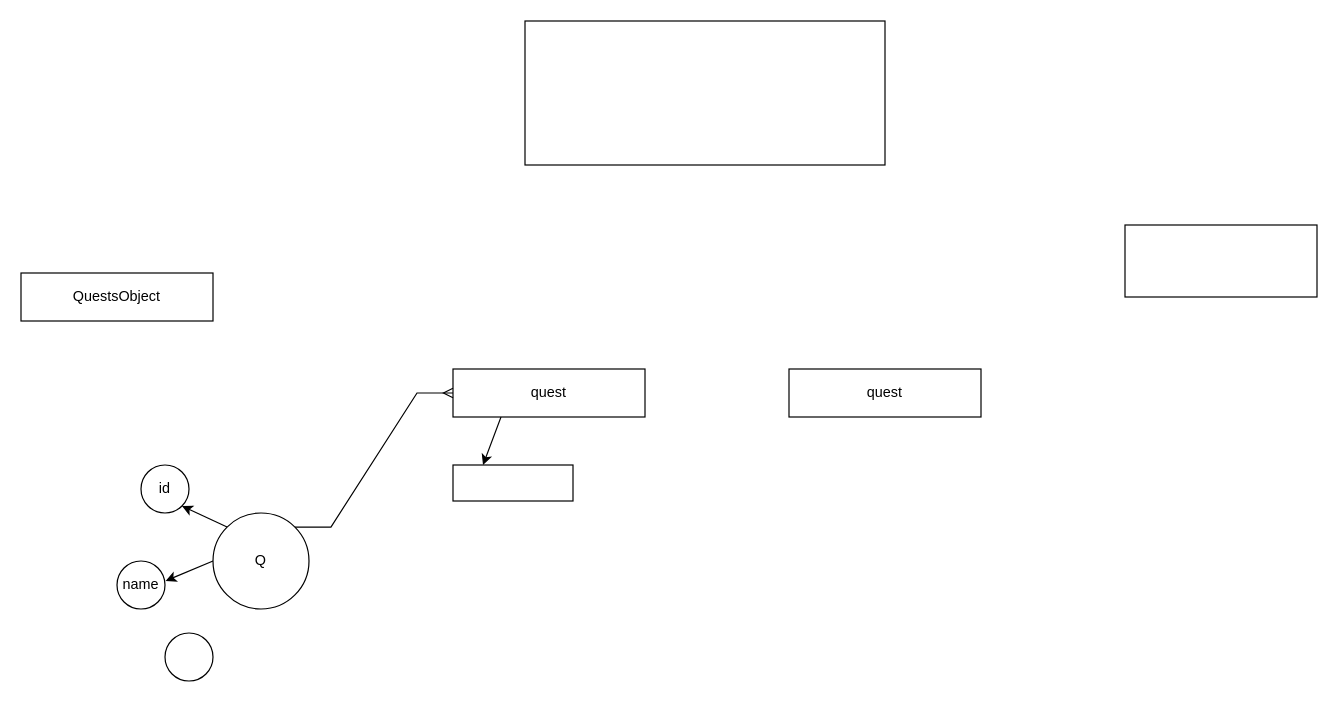
Image size: 1338x702. Some labels were removed from this diagram. The centre of each missing label's shape, as x and y in pixels:
score: the point at 188,656
Добавить просто Thought: the point at 704,92
Слова и предложения не связанны, это разные таблицы: the point at 1220,260
